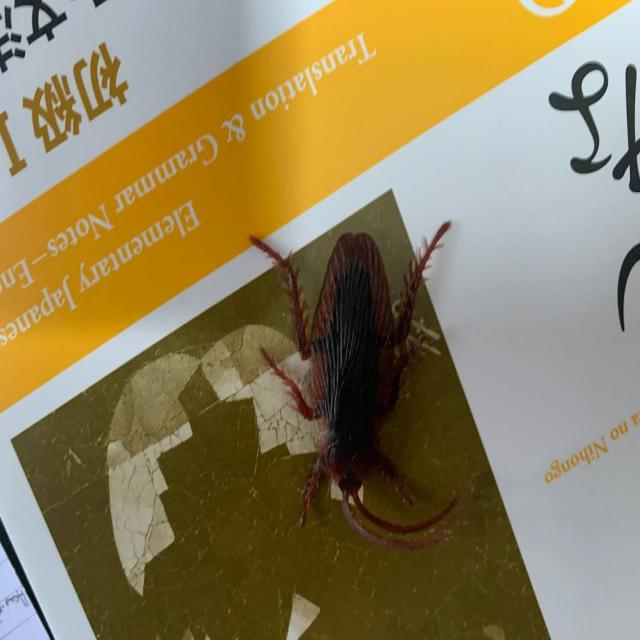Cockroach: (238, 203, 478, 546)
